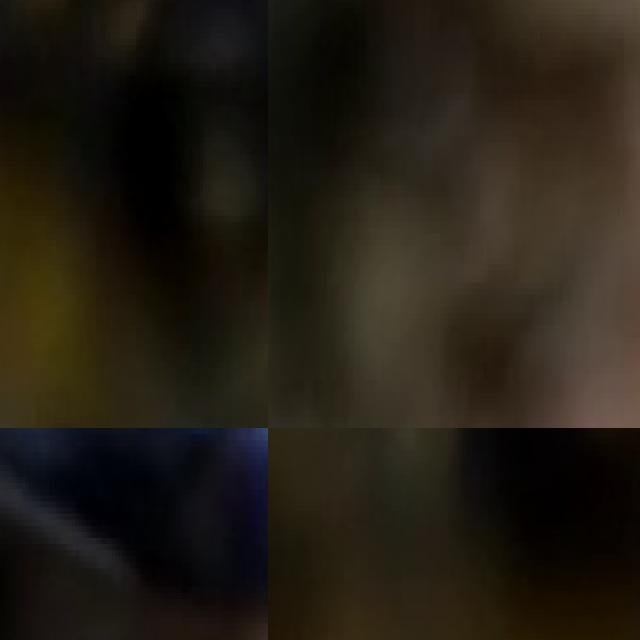fish: (0, 0, 268, 428), (268, 428, 640, 640)
